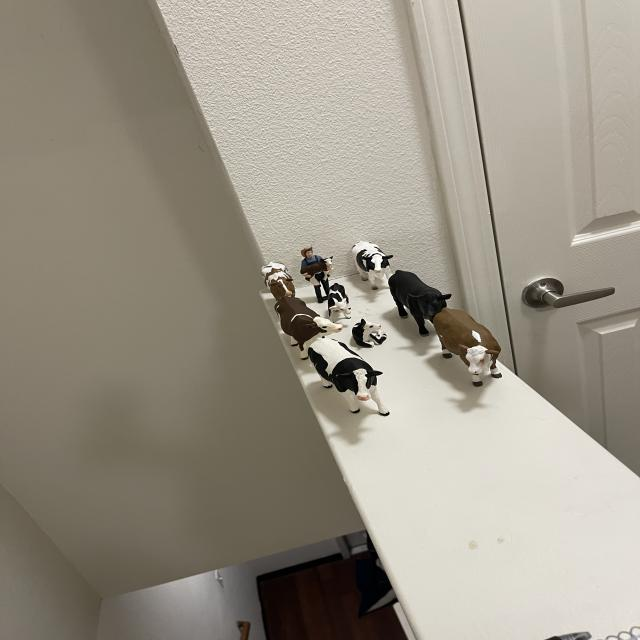cow: (298, 324, 406, 432), (420, 296, 518, 395), (265, 279, 344, 359), (373, 261, 454, 339), (341, 231, 403, 293), (256, 256, 301, 306), (347, 316, 390, 355), (327, 283, 351, 323), (298, 255, 334, 280)
person: (296, 243, 323, 268)
